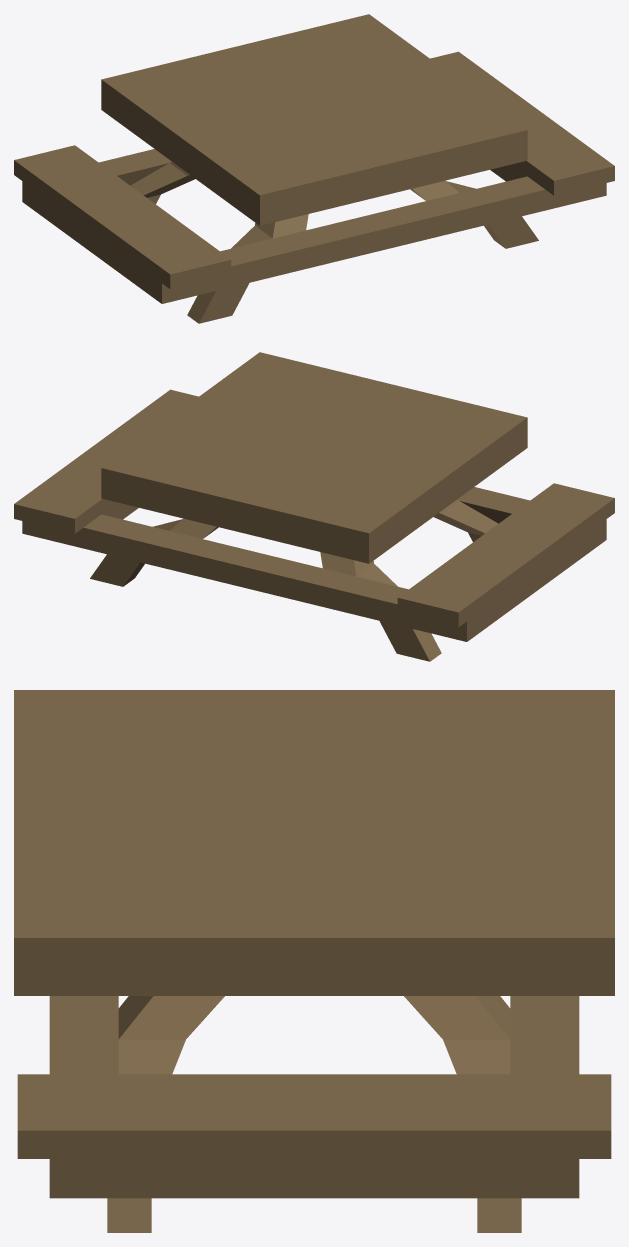
The model's file is picnictableV01.fbx.
The picture shows the model from 3 angles, top to bottom: view 1: azimuth 30°, elevation 25°; view 2: azimuth 150°, elevation 25°; view 3: azimuth 270°, elevation 25°; orthographic projection. The views are drawn at different scales.
Parts seen in each view (by area): view 1: picnictablev01; view 2: picnictablev01; view 3: picnictablev01.
Part boxes in pixels (x1=…): picnictablev01: x1=14, y1=14, x2=614, y2=323; picnictablev01: x1=14, y1=352, x2=614, y2=661; picnictablev01: x1=14, y1=690, x2=614, y2=1232.
Bounding box in the file's own units: 4.09 × 1.21 × 2.52.
